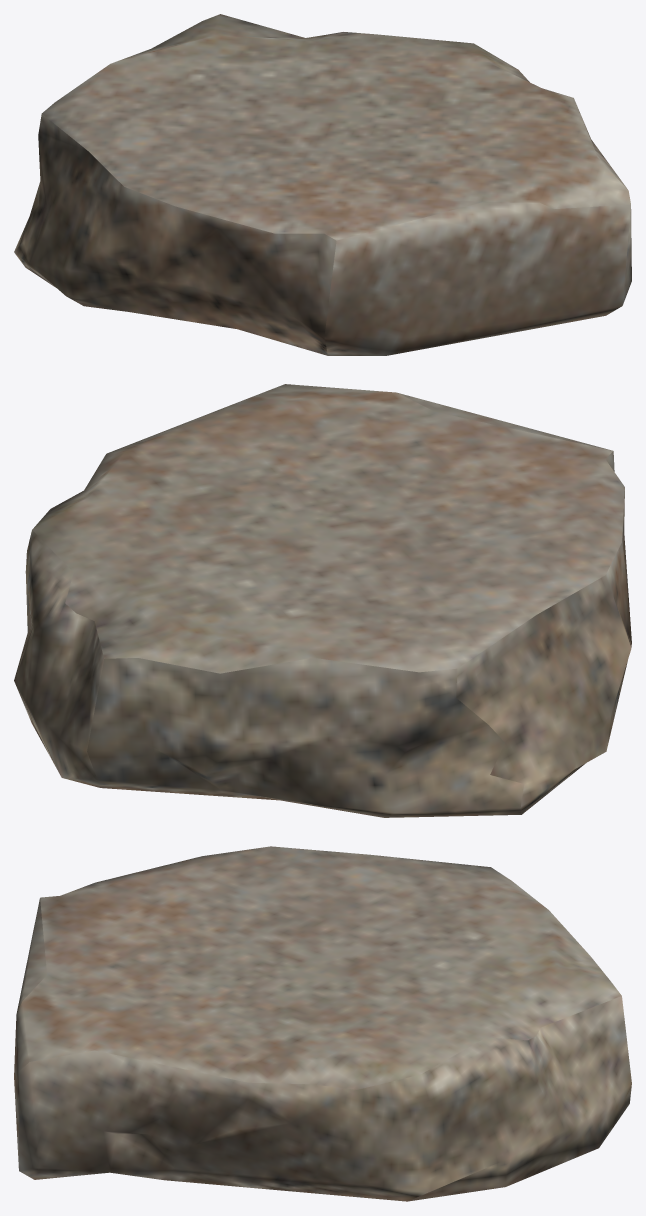
Rendered from Concrete_Rubble1.fbx.
3 views of the same model, one above another, from view 1: azimuth 30°, elevation 25°; view 2: azimuth 150°, elevation 25°; view 3: azimuth 270°, elevation 25° (orthographic). The views are drawn at different scales.
Parts seen in each view (by area): view 1: Concrete_Rubble1; view 2: Concrete_Rubble1; view 3: Concrete_Rubble1.
Part boxes in pixels (x1,y1,x2,y2): Concrete_Rubble1: (14,14,631,355); Concrete_Rubble1: (14,384,631,817); Concrete_Rubble1: (14,846,631,1201).
Bounding box in the file's own units: 8.64 × 2.51 × 9.34.
